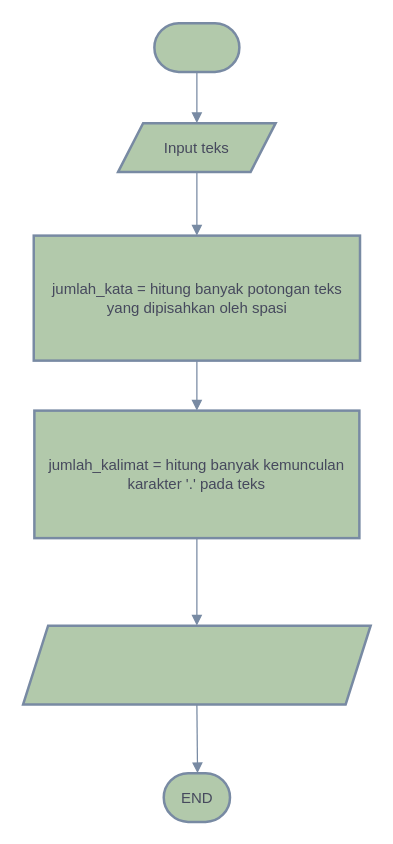
Some shapes in this 393 by 844 pixel diagram are drawn without their labels. The shapes that lost their labels are listed below. From the top down, each one's centre as x and y in pixels, then its label:
the point at 196,46: START
the point at 196,664: Print jumlah_kalimat dan jumlah_kata
